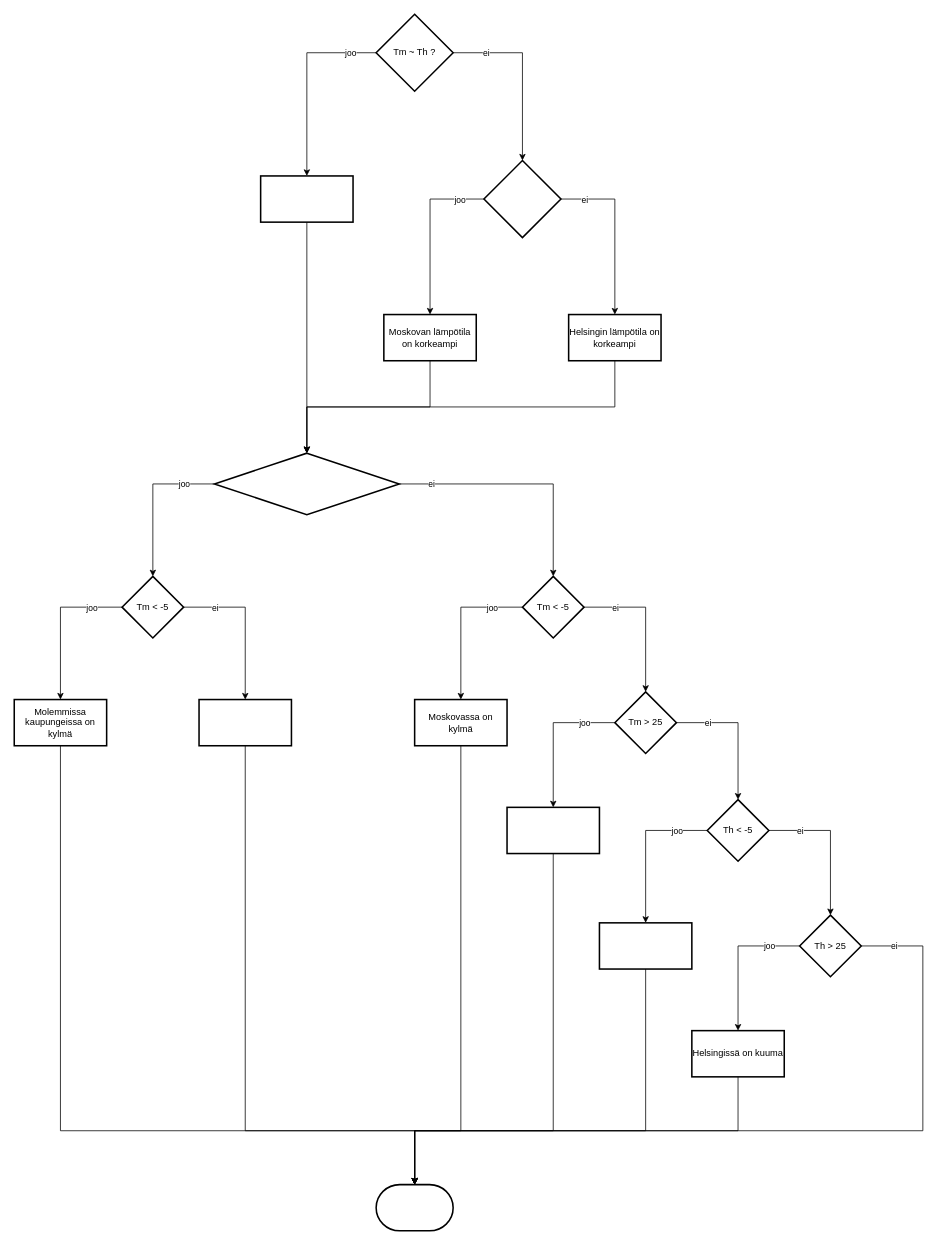
The diagram is 942 pixels wide and 1244 high, and some of its shapes have lost their labels. Each missing label, with the centre of its shape:
"(Tm < -5 || Tm > 25) && (Th < -5 || Tm > 25)" belongs at point (306, 483).
"Helsingissä on kylmä" belongs at point (645, 945).
"Lämpötila on aika sama" belongs at point (306, 199).
"Molemmissa kaupungeissa on kuuma" belongs at point (245, 722).
"Moskovassa on kuuma" belongs at point (553, 830).
"Tm > Th ?" belongs at point (522, 198).
